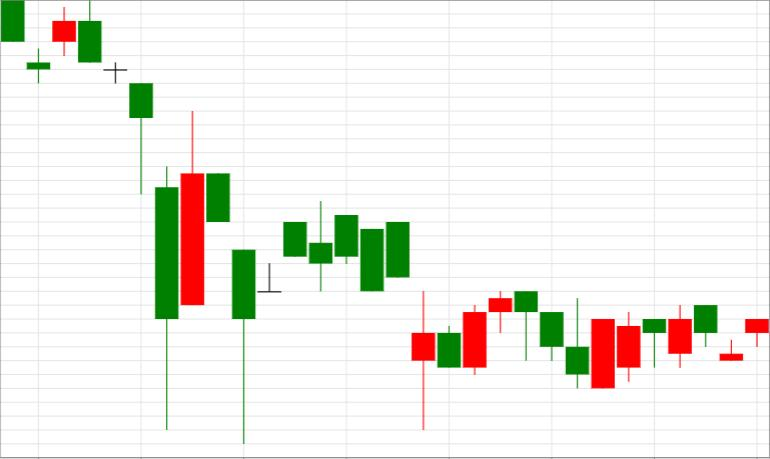bullish_engulfing_rise: (489, 291, 614, 389)
